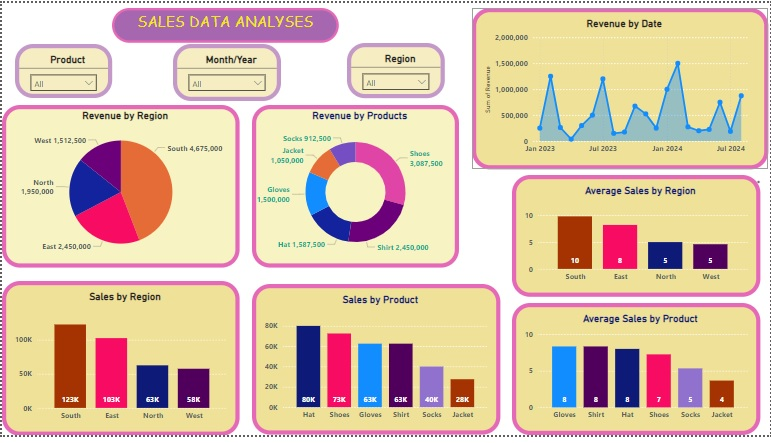

What the dashboard file says about the page in this screenshot:
{"tool":"powerbi","page":{"name":"Sales Data","canvas":[1280,720],"ordinal":1},"visuals":[{"type":"pieChart","title":"Revenue by Region","fields":{"Category":["Sales report.Region"],"Y":["Sum(Sales report.Revenue)"]},"box":[0,170,396.2,271.2],"z":1000},{"type":"donutChart","title":"Revenue by Products","fields":{"Category":["Sales report.Product"],"Y":["Sum(Sales report.Revenue)"]},"box":[416.2,170,345,271.2],"z":3000},{"type":"clusteredColumnChart","title":"Sales by Region","fields":{"Category":["Sales report.Region"],"Y":["Sum(Sales report.Quantity)"]},"box":[0,462.5,396.2,257.5],"z":4000},{"type":"clusteredColumnChart","title":"Sales by Product","fields":{"Category":["Sales report.Product"],"Y":["Sum(Sales report.Quantity)"]},"box":[416.2,468.8,413.8,251.2],"z":5000},{"type":"slicer","title":"Month/Year","fields":{"Values":["Sales report.OrderDate.Variation.Date Hierarchy.Year","Sales report.OrderDate.Variation.Date Hierarchy.Month"]},"box":[286.2,7.5,180,122.5],"z":6000},{"type":"lineChart","title":"Revenue by Date","fields":{"Category":["Sales report.OrderDate.Variation.Date Hierarchy.Year","Sales report.OrderDate.Variation.Date Hierarchy.Month"],"Y":["Sum(Sales report.Revenue)"]},"box":[782.5,7.5,493.8,268.8],"z":8001},{"type":"slicer","title":"Product","fields":{"Values":["Sales report.Product"]},"box":[36.2,7.5,162.5,112.5],"z":8002},{"type":"slicer","title":"Region","fields":{"Values":["Sales report.Region"]},"box":[558.8,12.5,162.5,112.5],"z":8003},{"type":"clusteredColumnChart","title":"Average Sales by Region","fields":{"Category":["Sales report.Region"],"Y":["Avg(Sales report.Quantity)"]},"box":[850,286.2,413.8,202.5],"z":8004},{"type":"clusteredColumnChart","title":"Average Sales by Product","fields":{"Category":["Sales report.Product"],"Y":["Avg(Sales report.Quantity)"]},"box":[850,500,413.8,220],"z":8005}]}

Visuals, with their boxes in screenshot pixels (x1, y1, x2, y2), scaled from the page's 1280x720 canvas onto the 771x443 screenshot:
"Revenue by Region" pieChart: {"x1": 0, "y1": 105, "x2": 239, "y2": 271}
"Revenue by Products" donutChart: {"x1": 251, "y1": 105, "x2": 459, "y2": 271}
"Sales by Region" clusteredColumnChart: {"x1": 0, "y1": 285, "x2": 239, "y2": 442}
"Sales by Product" clusteredColumnChart: {"x1": 251, "y1": 288, "x2": 500, "y2": 442}
"Month/Year" slicer: {"x1": 172, "y1": 5, "x2": 281, "y2": 80}
"Revenue by Date" lineChart: {"x1": 471, "y1": 5, "x2": 769, "y2": 170}
"Product" slicer: {"x1": 22, "y1": 5, "x2": 120, "y2": 74}
"Region" slicer: {"x1": 337, "y1": 8, "x2": 434, "y2": 77}
"Average Sales by Region" clusteredColumnChart: {"x1": 512, "y1": 176, "x2": 761, "y2": 301}
"Average Sales by Product" clusteredColumnChart: {"x1": 512, "y1": 308, "x2": 761, "y2": 442}
